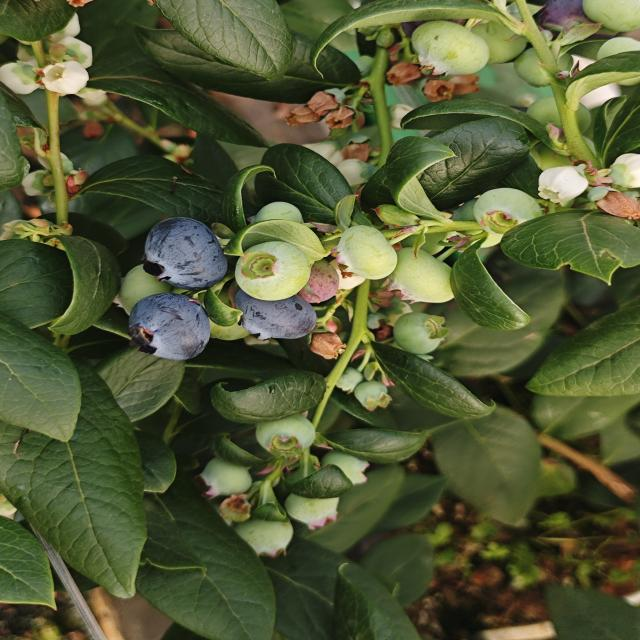ripe: (141, 212, 236, 292), (230, 284, 328, 346), (130, 299, 208, 362)
